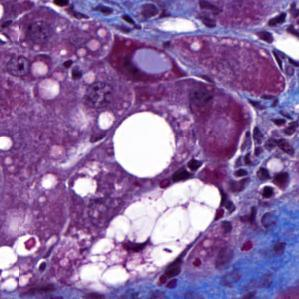ballooning: (74, 176, 222, 292)
